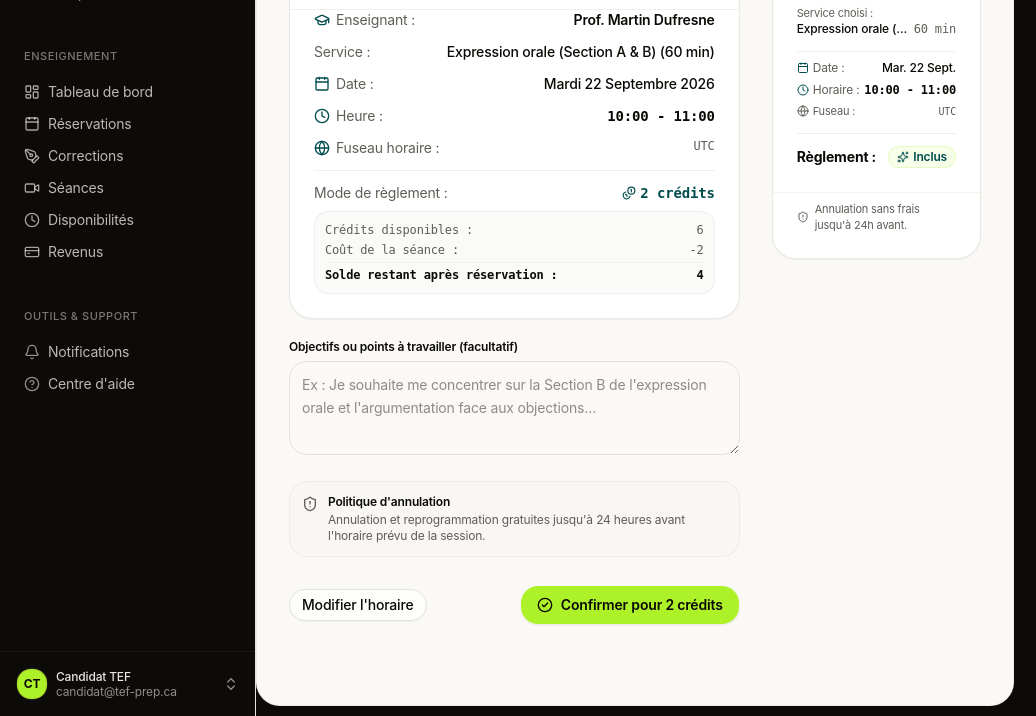
Test: Page 15 — Teacher Booking Flow (/teachers/:teacherId/book) › handles 409 conflict when a slot is booked by someone else during the flow
(page scrolled)
Note: Advance to review and click confirm
Click the button "Confirmer pour 2 crédits" at point(630, 605), box [520, 585, 740, 625]
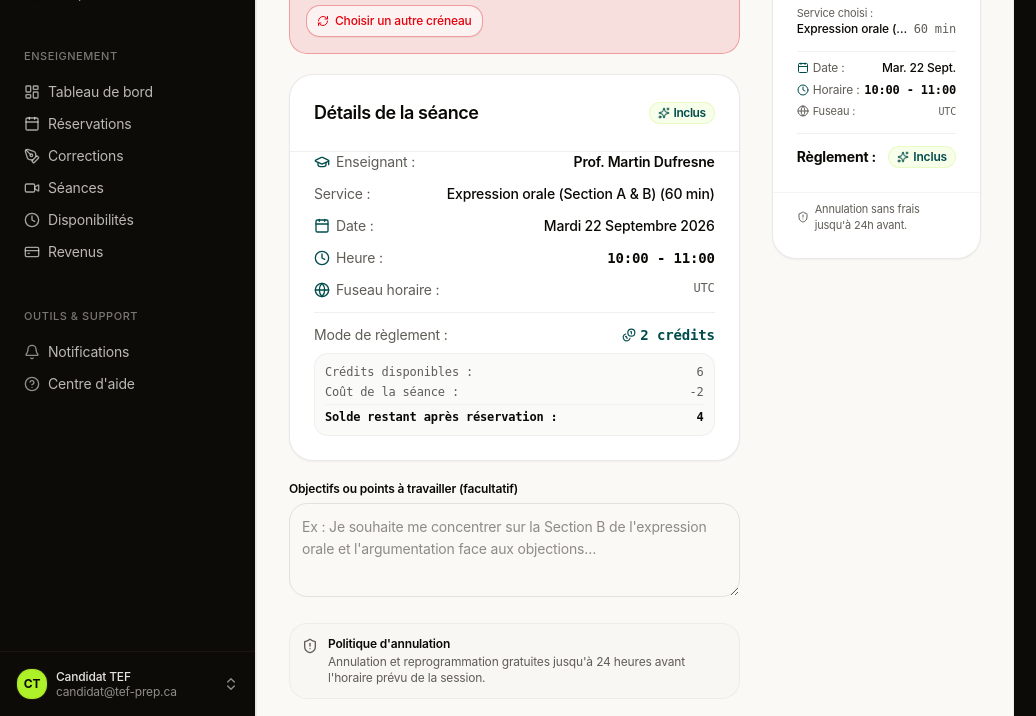
Result: the button "Choisir un autre créneau" is shown at [306, 4, 483, 36]
